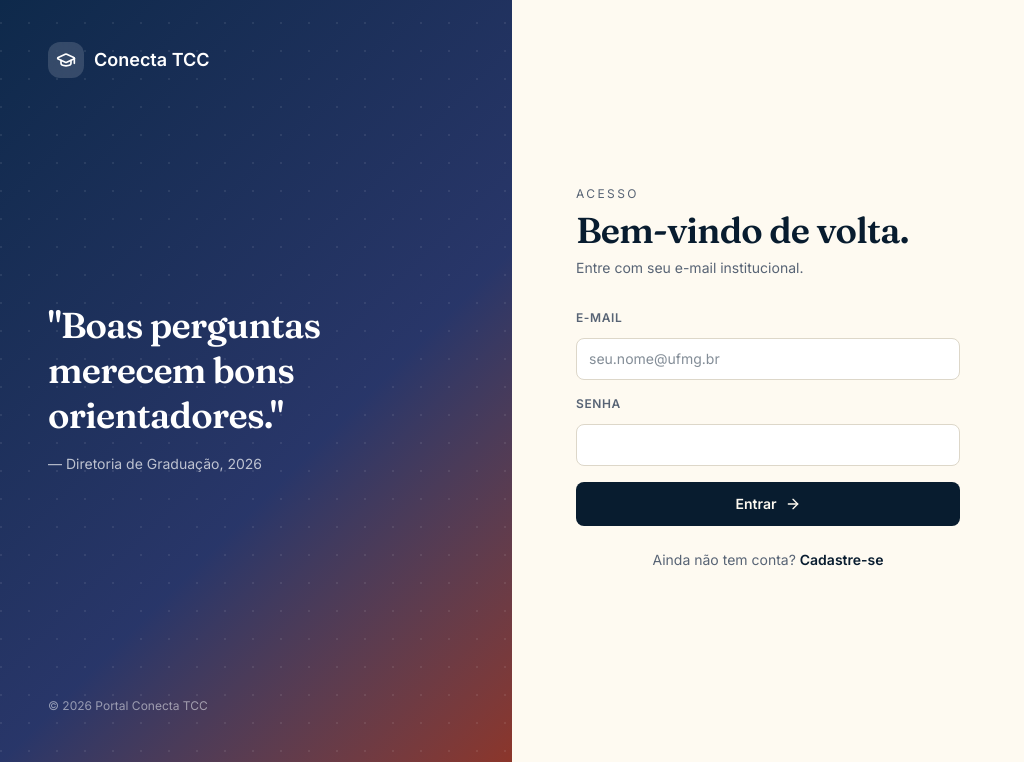
LoginPage › switches back to login mode from registration
Click the button "Cadastre-se" at {"x": 842, "y": 560}, box [800,550,884,570]
(page scrolled)
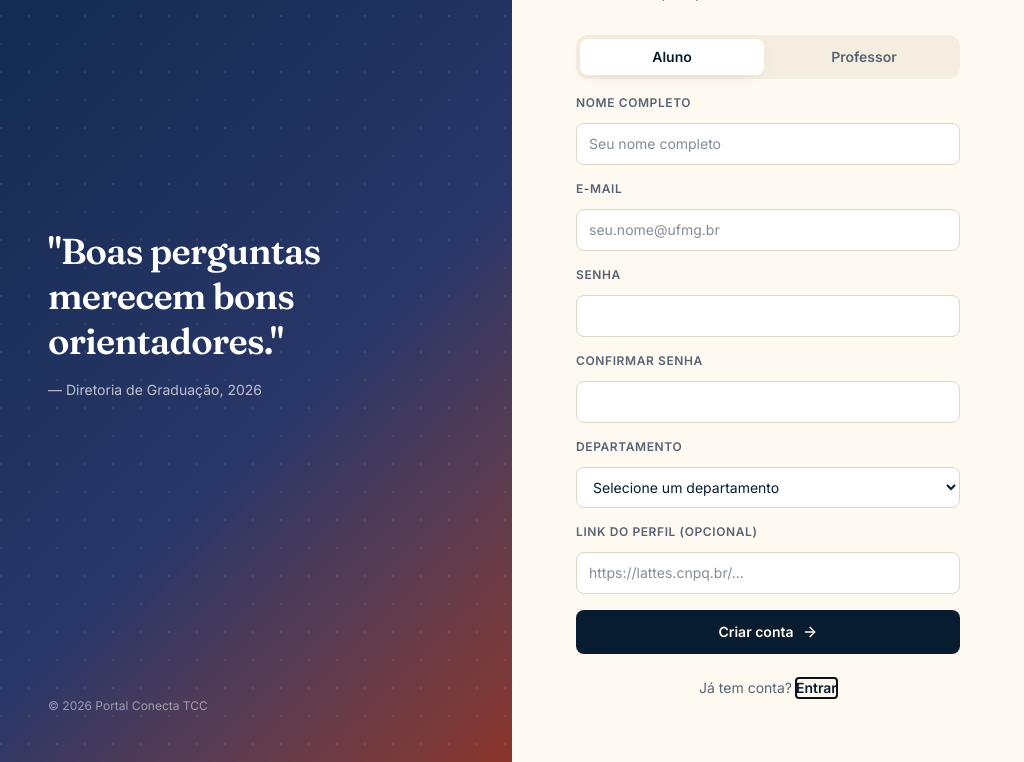
Click the button "Entrar" at {"x": 816, "y": 688}, box [796,678,837,698]
(page scrolled)
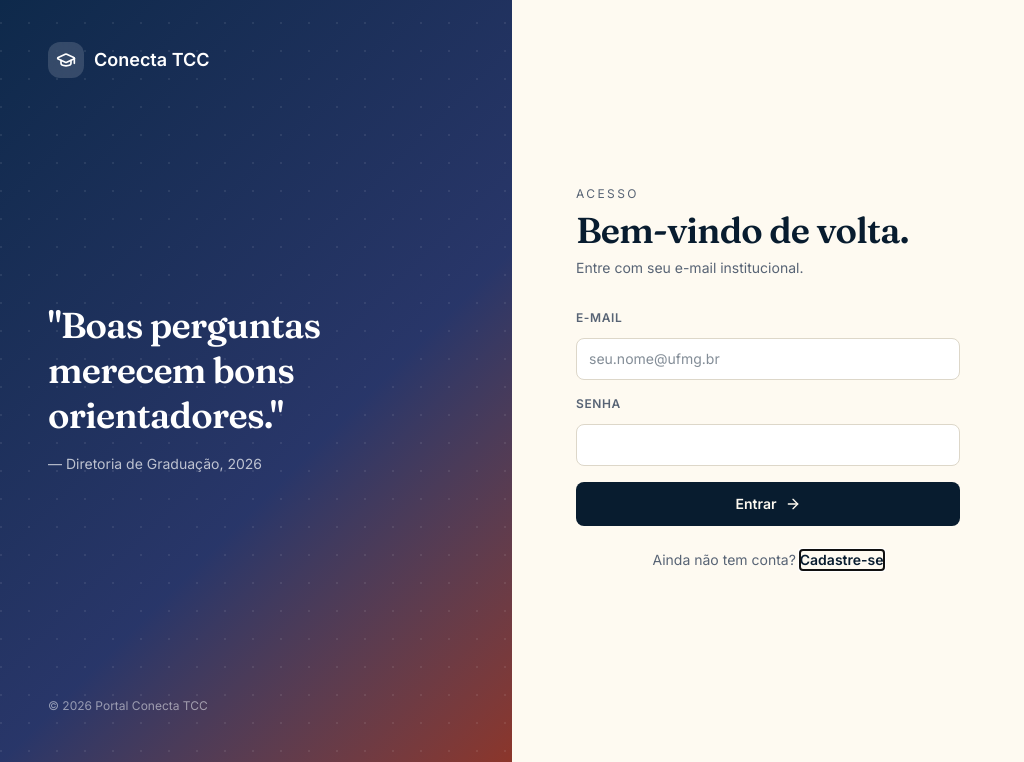
expect the password field labelled "Senha" is shown: met, box [576,424,960,466]
